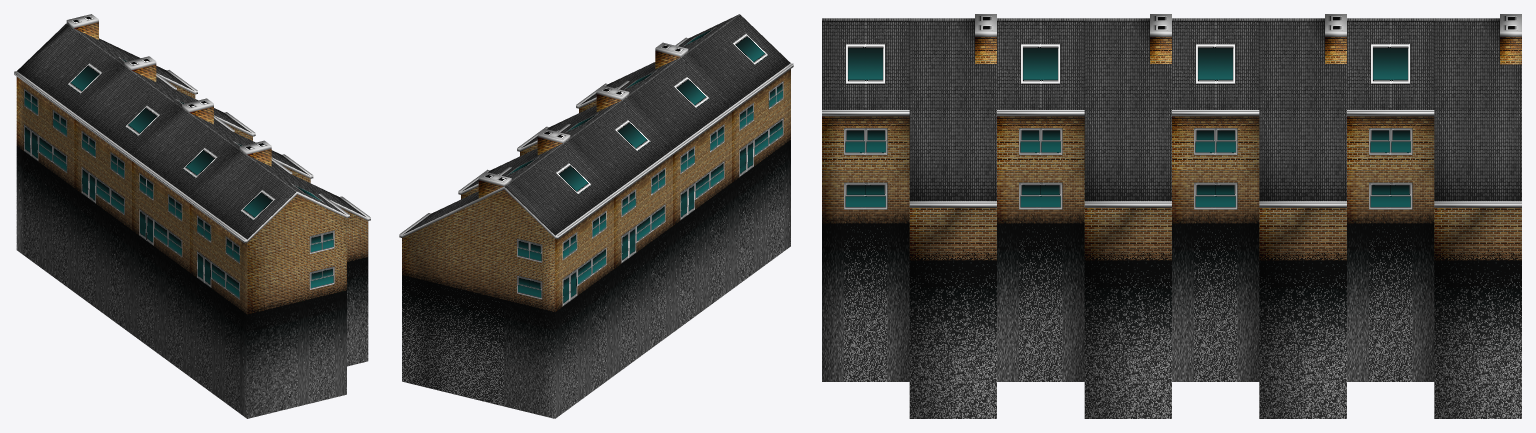
File: doorzon_mod3_3b.fbx
3 views of the same model, side by side, from view 1: azimuth 30°, elevation 25°; view 2: azimuth 150°, elevation 25°; view 3: azimuth 270°, elevation 25° (orthographic). The views are drawn at different scales.
Visible parts, largest first — view 1: doorzon_mod3_3b; view 2: doorzon_mod3_3b; view 3: doorzon_mod3_3b.
Part boxes in pixels (bbox=[...]): doorzon_mod3_3b: bbox=[14, 14, 370, 418]; doorzon_mod3_3b: bbox=[399, 14, 793, 418]; doorzon_mod3_3b: bbox=[822, 14, 1521, 418].
Bounding box in the file's own units: 1400 × 1879 × 3600.
